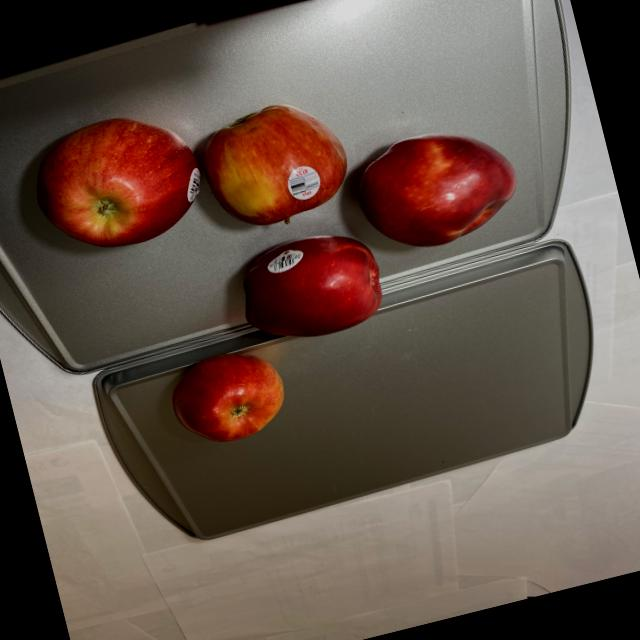apple: (16, 20, 542, 396), (154, 338, 294, 455)
